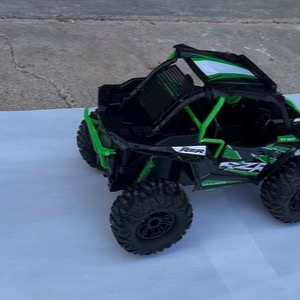polaris: (76, 44, 298, 258)
